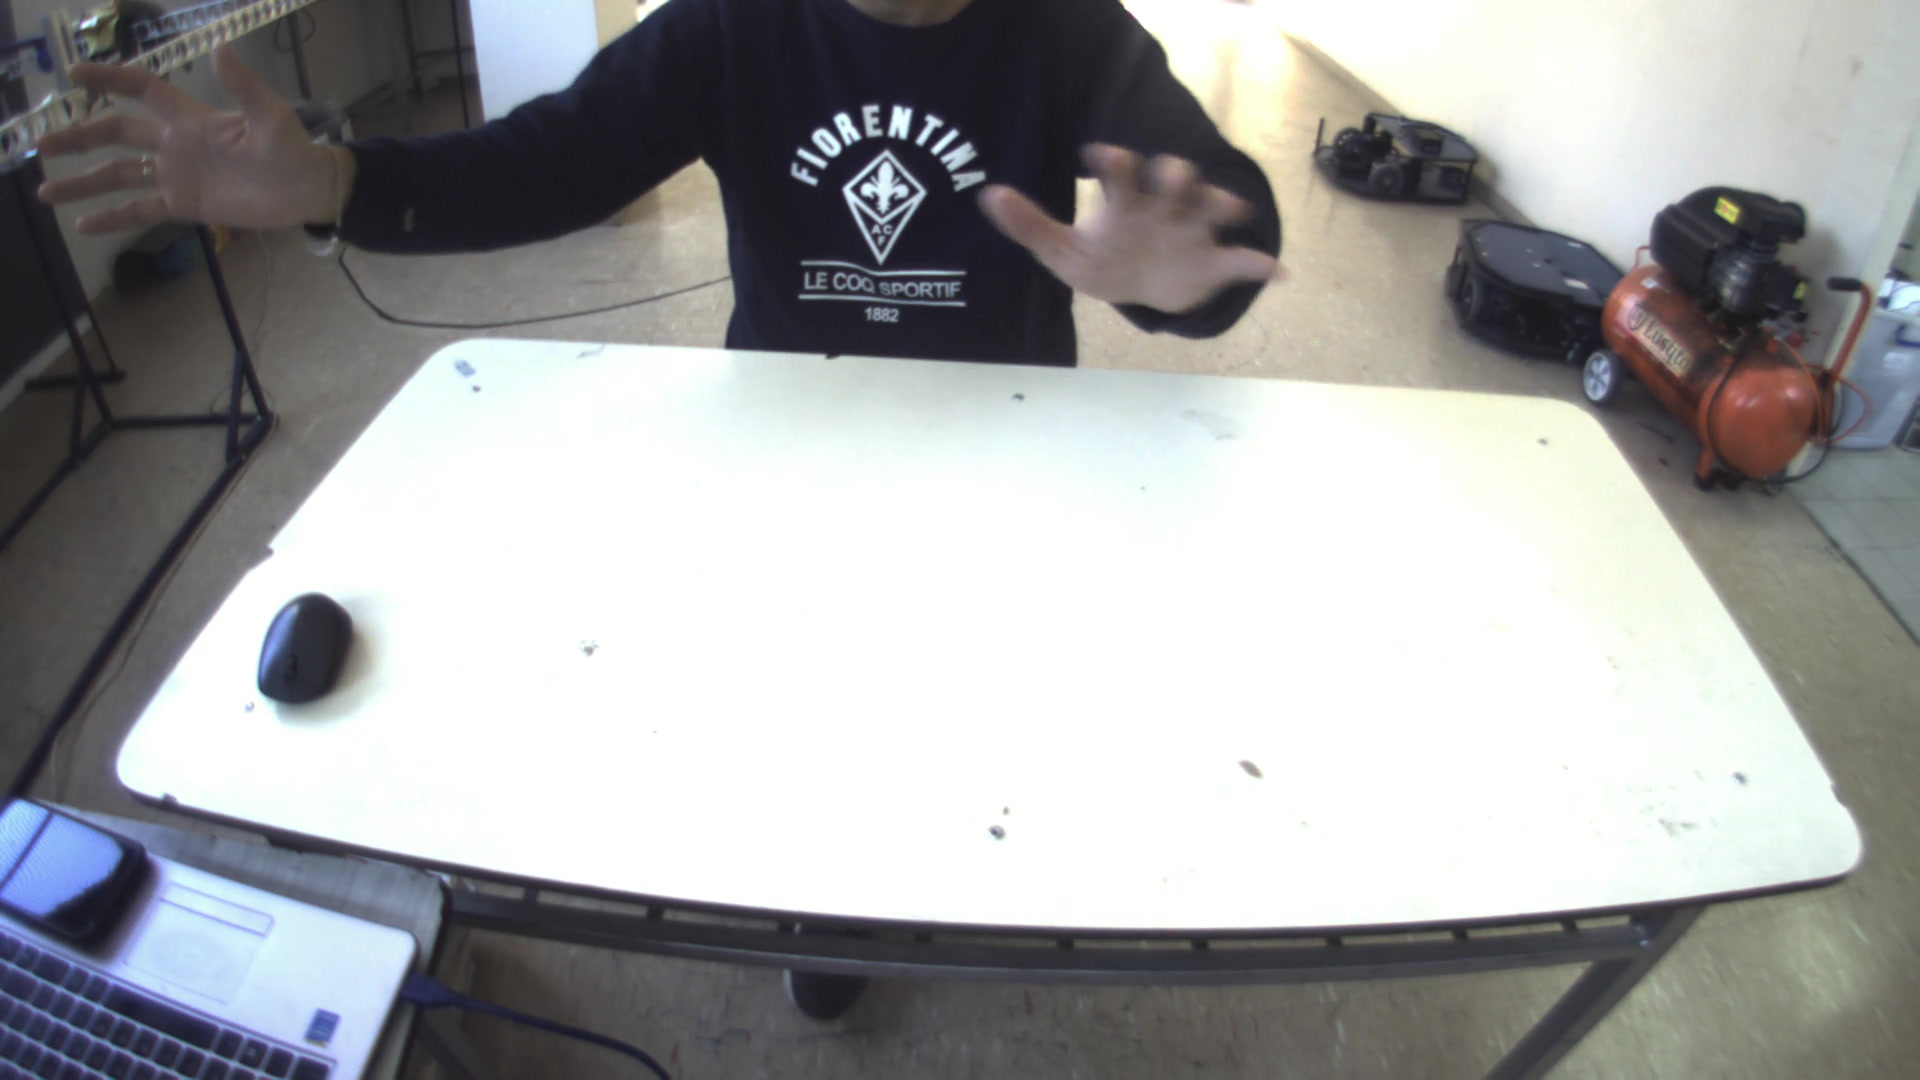hand: (12, 37, 349, 237), (975, 127, 1294, 320)
